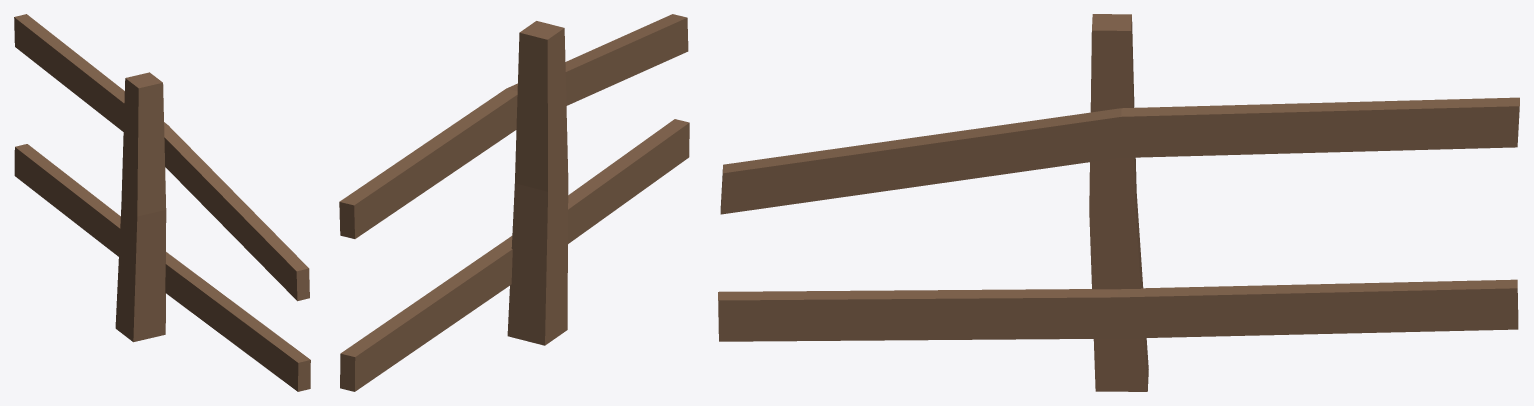
Rendered from mesh_fence _3.fbx.
3 views of the same model, side by side, from view 1: azimuth 30°, elevation 25°; view 2: azimuth 150°, elevation 25°; view 3: azimuth 270°, elevation 25° (orthographic). The views are drawn at different scales.
Visible parts, largest first — view 1: Fance _3; view 2: Fance _3; view 3: Fance _3.
Boxes of the visible parts, x1,y1,x2,y2 form: Fance _3: [14, 14, 310, 391]; Fance _3: [339, 14, 689, 391]; Fance _3: [718, 14, 1519, 391].
Size of the model in its own units: 0.1372 by 0.7677 by 1.56.
